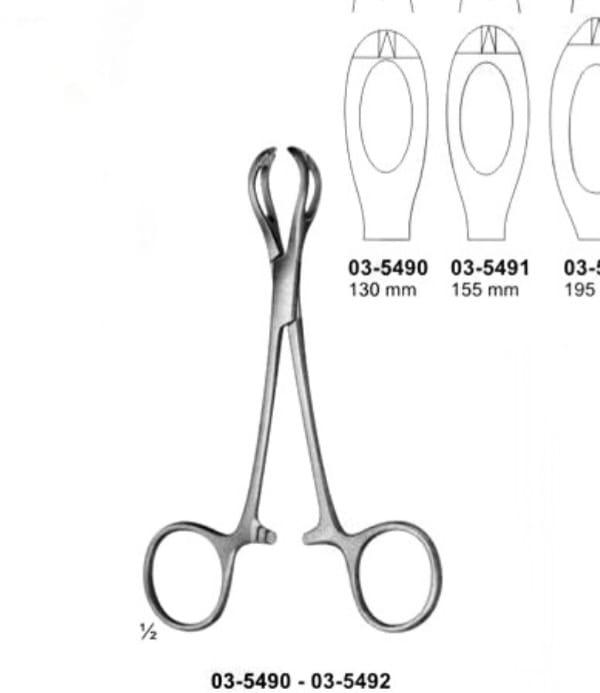Lane Tissue Forceps: (144, 145, 445, 635)
